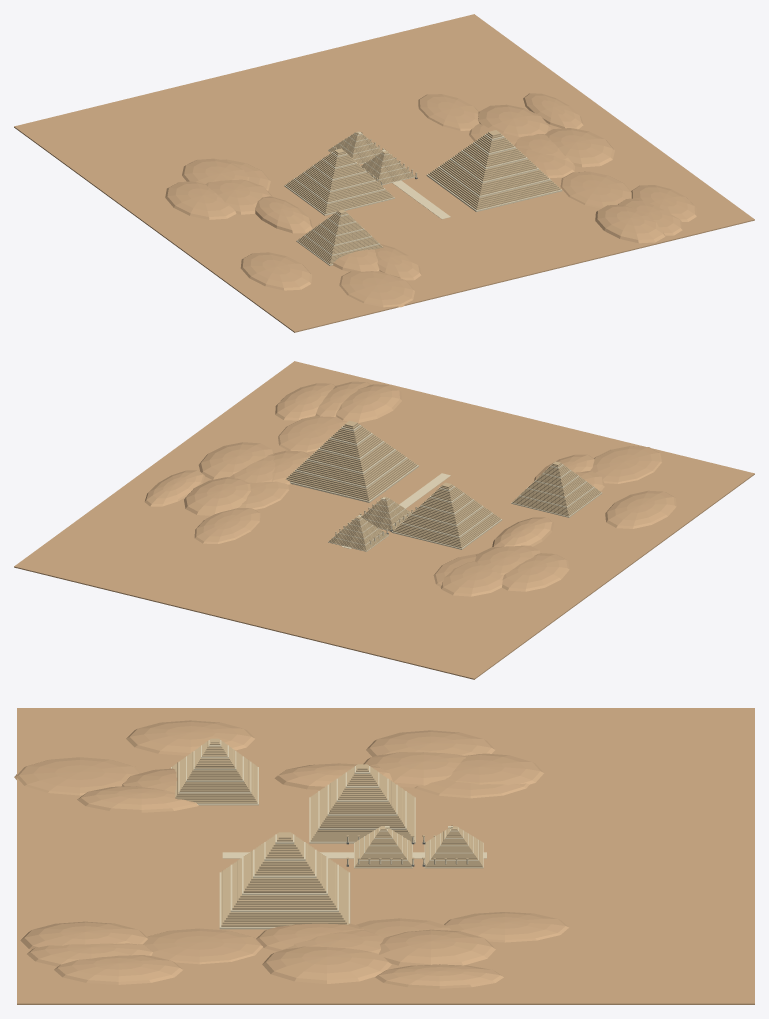
Rendered from pyramids-05bDB8bz.glb.
3 renders of one model, top to bottom at view 1: azimuth 30°, elevation 25°; view 2: azimuth 150°, elevation 25°; view 3: azimuth 270°, elevation 25°, orthographic. The views are drawn at different scales.
Parts seen in each view (by area): view 1: pyramids_Desert_sand, pyramids_Limestone, pyramids_Pale_casing_stone; view 2: pyramids_Desert_sand, pyramids_Limestone, pyramids_Pale_casing_stone; view 3: pyramids_Desert_sand, pyramids_Limestone, pyramids_Pale_casing_stone.
Part boxes in pixels (x1=…): pyramids_Desert_sand: x1=14, y1=14, x2=754, y2=332; pyramids_Limestone: x1=285, y1=130, x2=560, y2=264; pyramids_Pale_casing_stone: x1=284, y1=132, x2=562, y2=265; pyramids_Desert_sand: x1=14, y1=361, x2=754, y2=679; pyramids_Limestone: x1=285, y1=420, x2=601, y2=550; pyramids_Pale_casing_stone: x1=289, y1=425, x2=602, y2=551; pyramids_Desert_sand: x1=14, y1=708, x2=754, y2=1004; pyramids_Limestone: x1=172, y1=738, x2=482, y2=926; pyramids_Pale_casing_stone: x1=171, y1=740, x2=486, y2=929.
Size of the model in its own units: 900 by 109 by 954.
